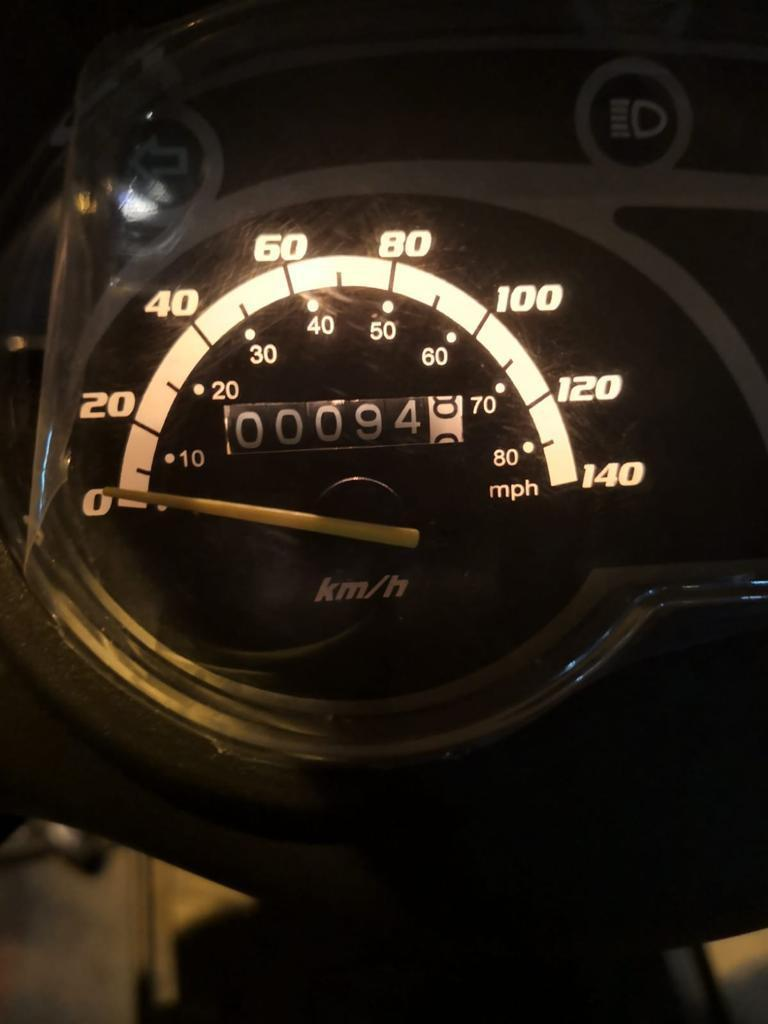0: (234, 410, 264, 449), (274, 407, 303, 445), (314, 404, 343, 442)
4: (393, 399, 421, 435)
8: (431, 389, 457, 419)
9: (354, 402, 382, 441)
odometer: (220, 392, 467, 457)
